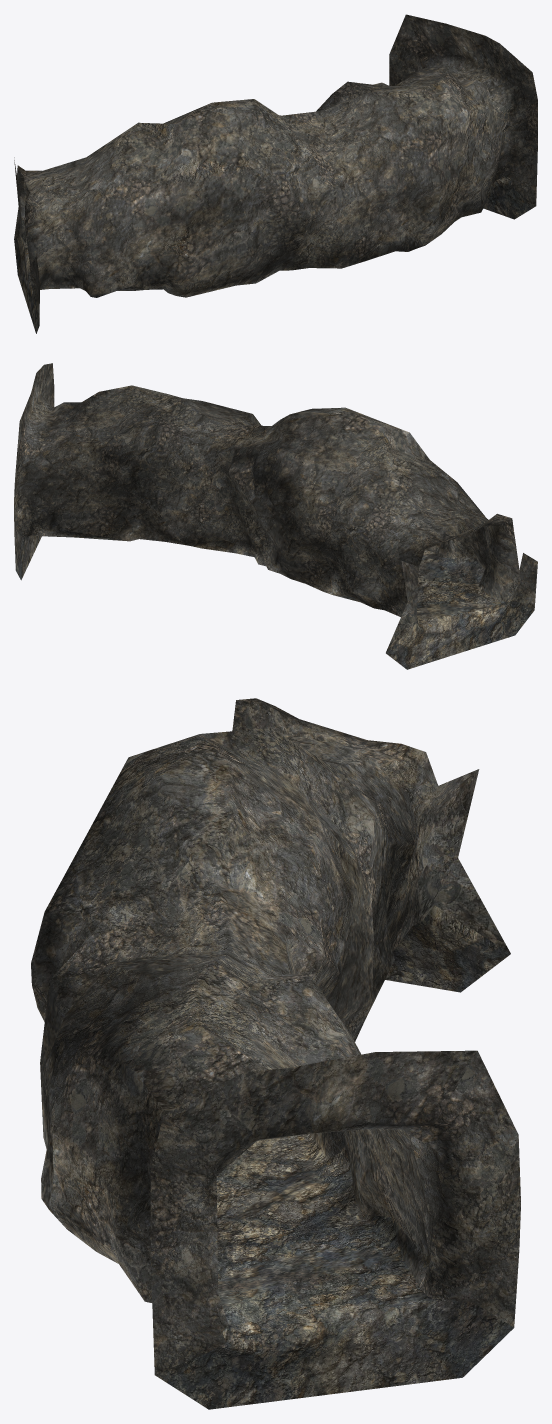
File: Cave15.fbx
The picture shows the model from 3 angles, top to bottom: view 1: azimuth 30°, elevation 25°; view 2: azimuth 150°, elevation 25°; view 3: azimuth 270°, elevation 25°; orthographic projection. The views are drawn at different scales.
Visible parts, largest first — view 1: Cave15:Cave11:Cave15; view 2: Cave15:Cave11:Cave15; view 3: Cave15:Cave11:Cave15.
Boxes of the visible parts, bbox=[...] form: Cave15:Cave11:Cave15: bbox=[14, 14, 537, 333]; Cave15:Cave11:Cave15: bbox=[14, 363, 537, 669]; Cave15:Cave11:Cave15: bbox=[31, 698, 520, 1409].
Bounding box in the file's own units: 176 × 63.53 × 76.83.
